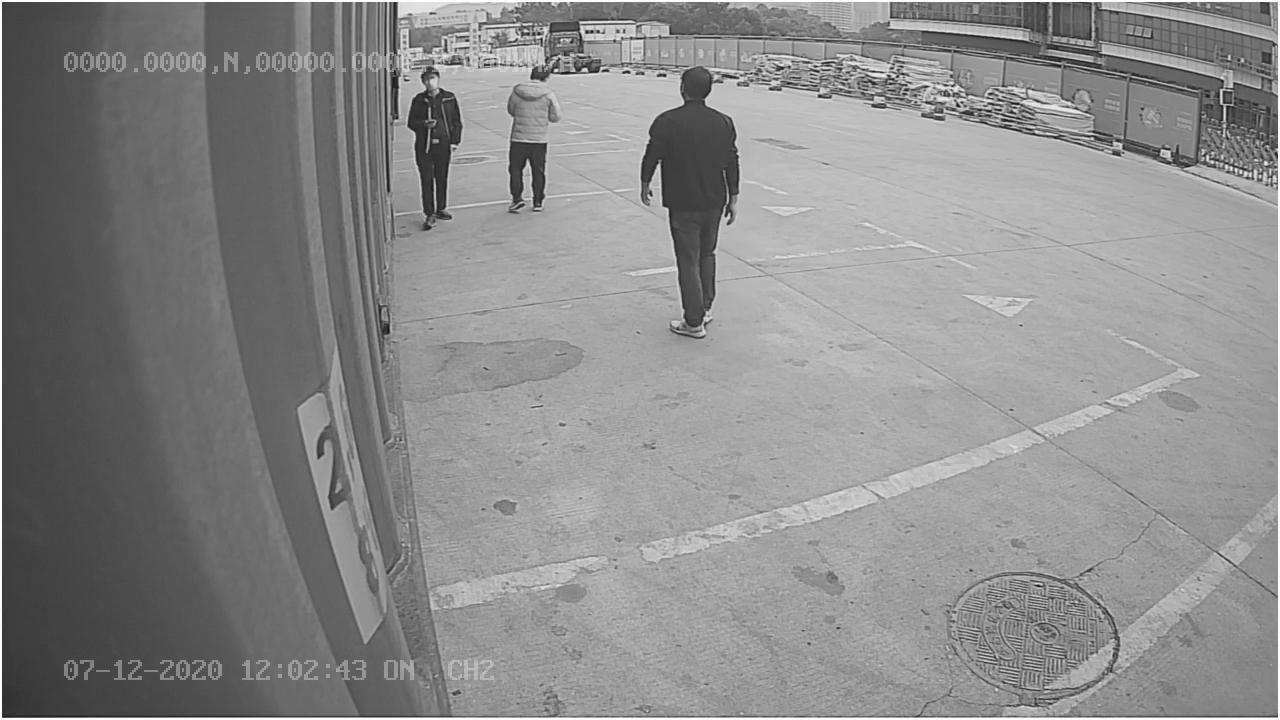person: (637, 61, 745, 341)
